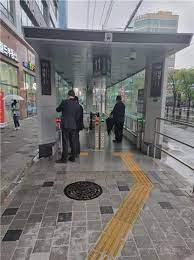guide_blocks: (90, 191, 148, 260), (123, 157, 154, 188), (112, 150, 134, 156)
